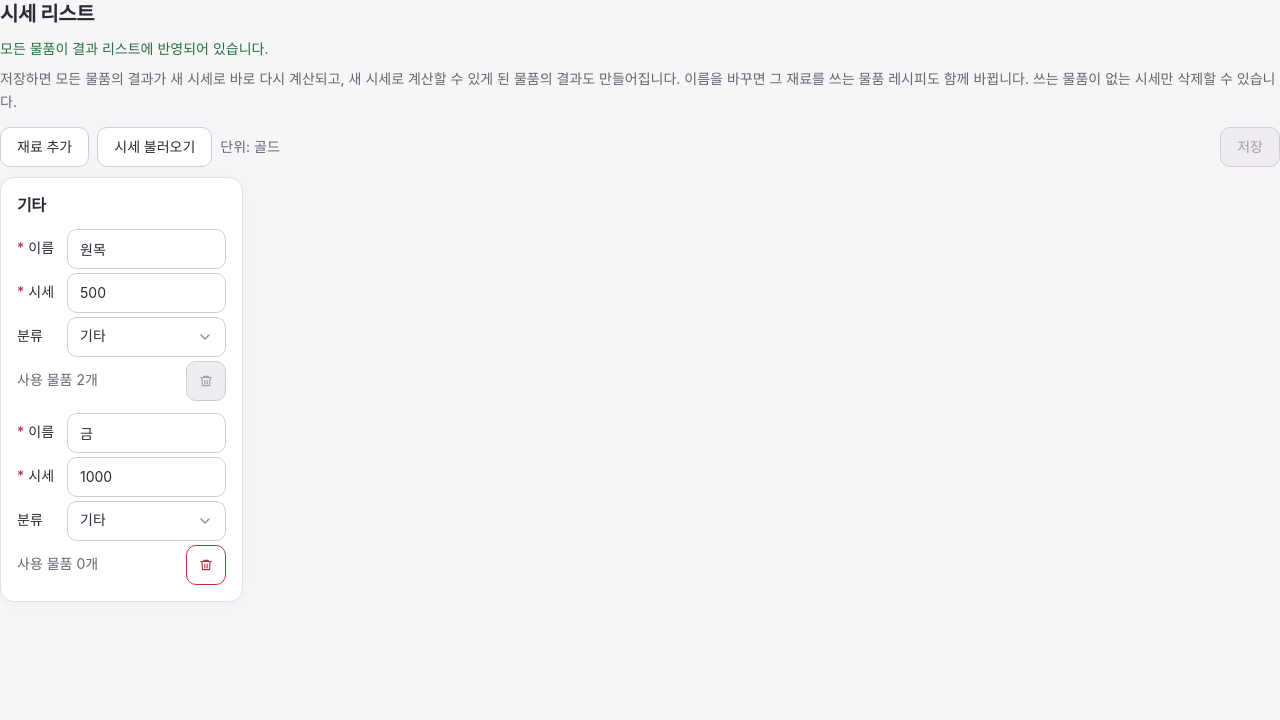
Scenario: MarketManagePage › 저장에 실패하면 서버 메시지를 알림창으로 보여 주고 입력을 유지한다
The image size is (1280, 720).
Expected: the text "2개" is shown, [76,371,98,388]
Replace the text in the number field named "금 시세" with "2000" at (147, 477), box [80,458,213,496]
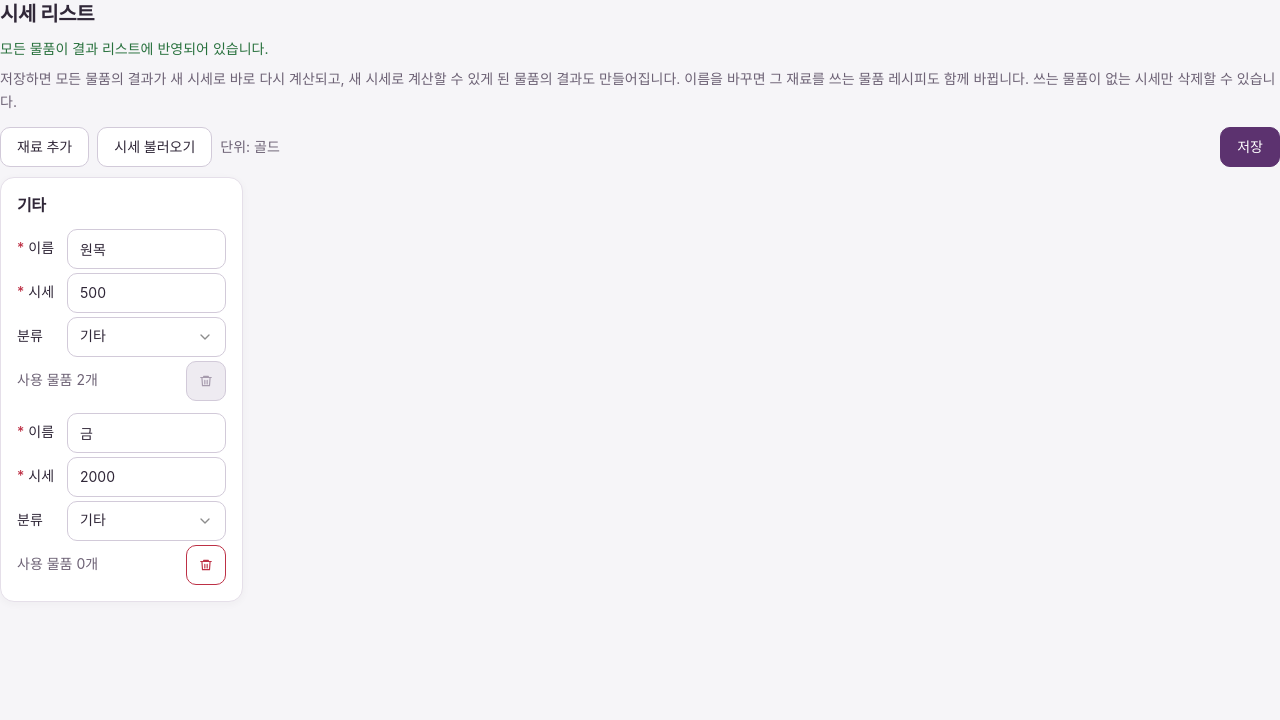
Click the button "저장" at (1250, 147), box [1220,127,1279,167]
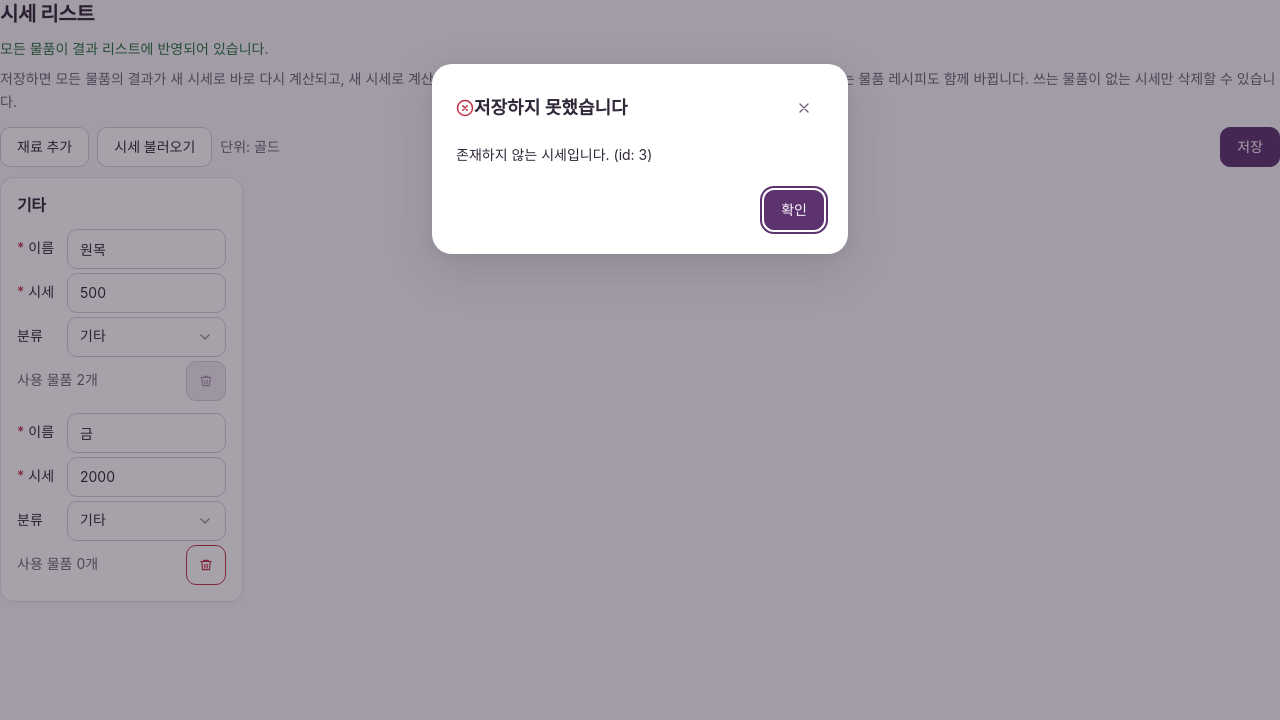
Now the dialog "저장하지 못했습니다" shows "존재하지 않는 시세입니다. (id: 3)", box [456,146,652,163]
